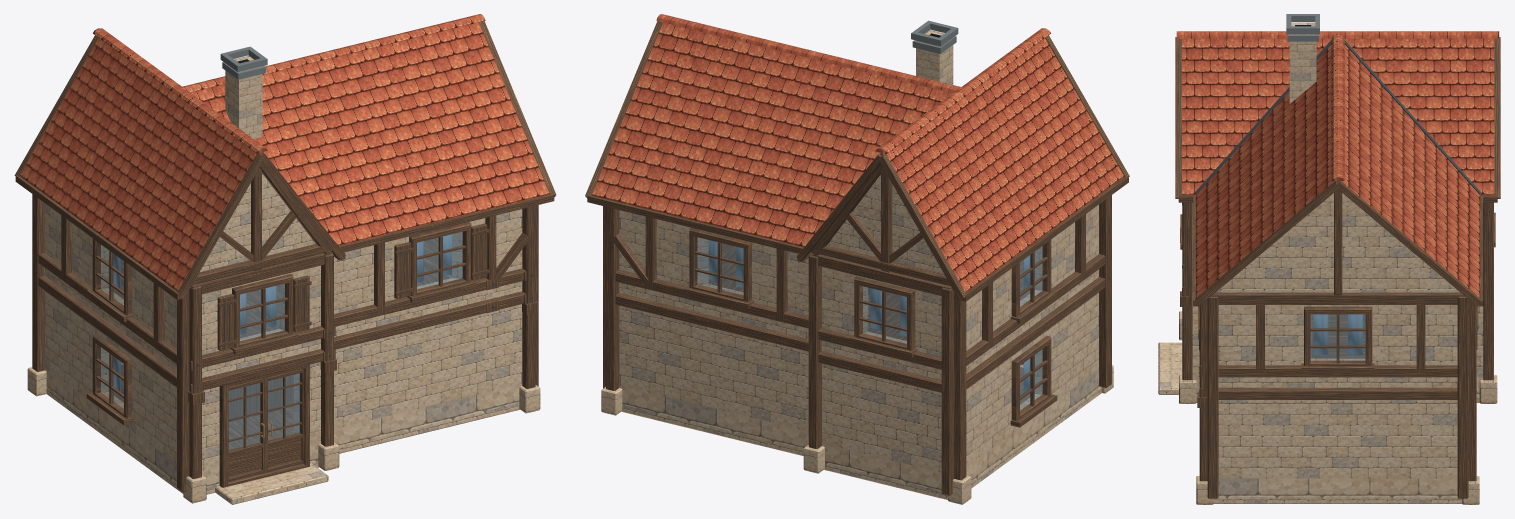
Rendered from B01_Red_Roof_Variant.glb.
The picture shows the model from 3 angles, left to right: view 1: azimuth 30°, elevation 25°; view 2: azimuth 150°, elevation 25°; view 3: azimuth 270°, elevation 25°; orthographic projection. The views are drawn at different scales.
Visible parts, largest first — view 1: B01_Blue_Roof_Shop_Game; view 2: B01_Blue_Roof_Shop_Game; view 3: B01_Blue_Roof_Shop_Game.
Boxes of the visible parts, x1=… form: B01_Blue_Roof_Shop_Game: x1=14, y1=14, x2=556, y2=504; B01_Blue_Roof_Shop_Game: x1=585, y1=14, x2=1129, y2=504; B01_Blue_Roof_Shop_Game: x1=1158, y1=14, x2=1500, y2=504.
Bounding box in the file's own units: 8.83 × 8.16 × 6.88.
Materials: 9 (3 with a texture image).
